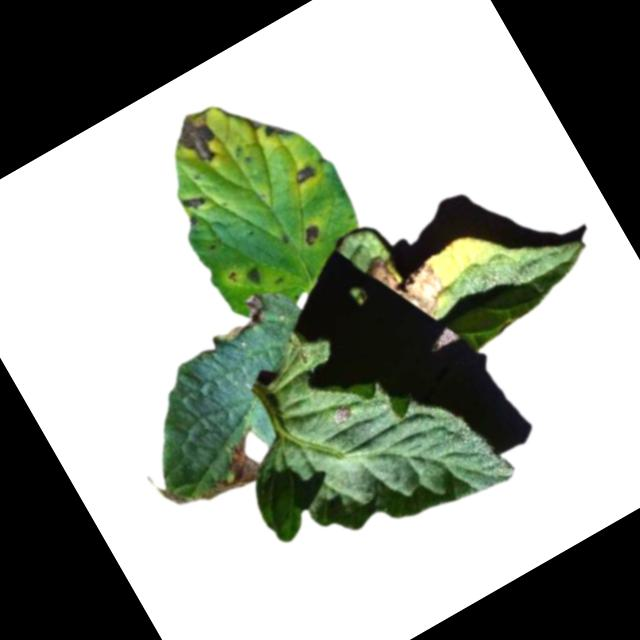Early_blight: (141, 424, 267, 531), (362, 237, 455, 336), (166, 101, 231, 172), (212, 288, 279, 349), (262, 112, 299, 145), (289, 158, 321, 188), (298, 220, 326, 249), (241, 259, 269, 288), (180, 187, 209, 212), (329, 403, 355, 428)
